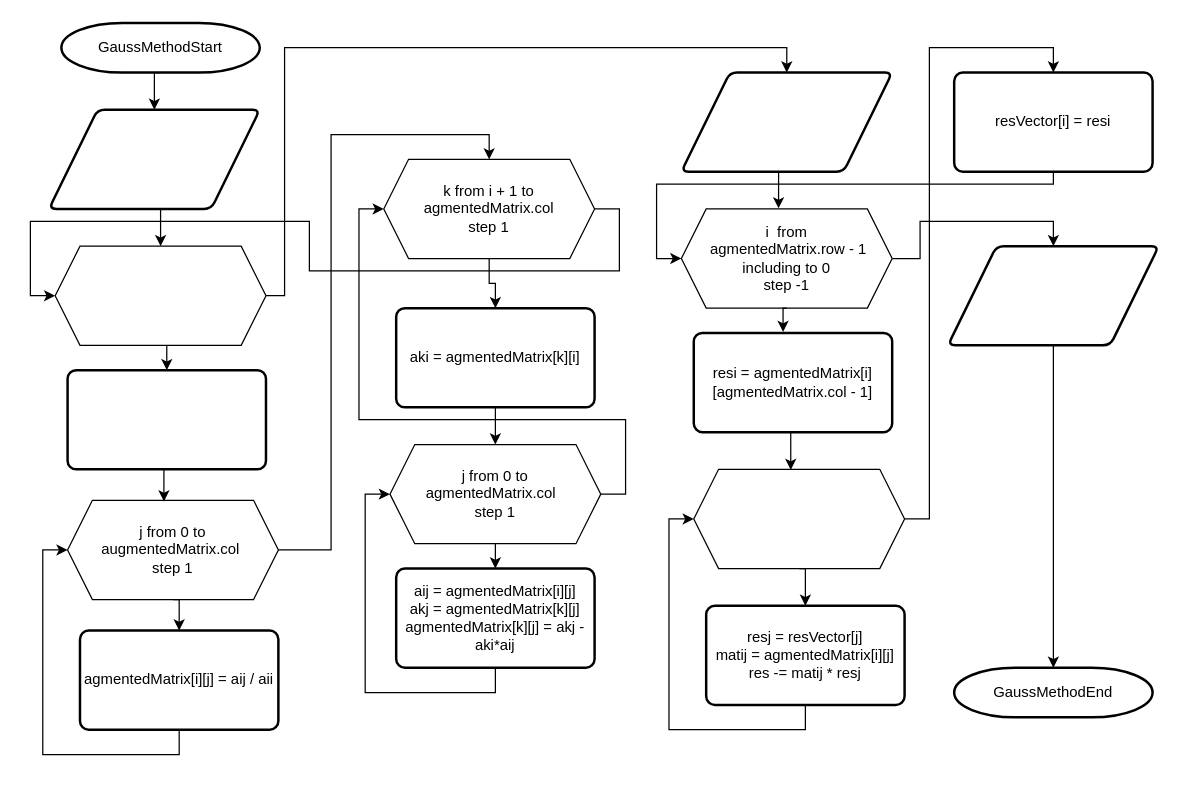
The diagram is 1182 pixels wide and 786 high, and some of its shapes have lost their labels. Each missing label, with the box of its shape:
-> agmentedMatrix <- resVector: (680, 71, 893, 172)
-> resVector: (946, 244, 1159, 346)
<- agmentedMatrix: (47, 108, 260, 210)
aii = agmentedMatrix[i][i]: (66, 368, 267, 470)
i from 0 to augmentedMatrix.row step 1: (54, 245, 266, 345)
j from agmentedMatrix.col - 2 to j > i step -1: (693, 468, 905, 569)
